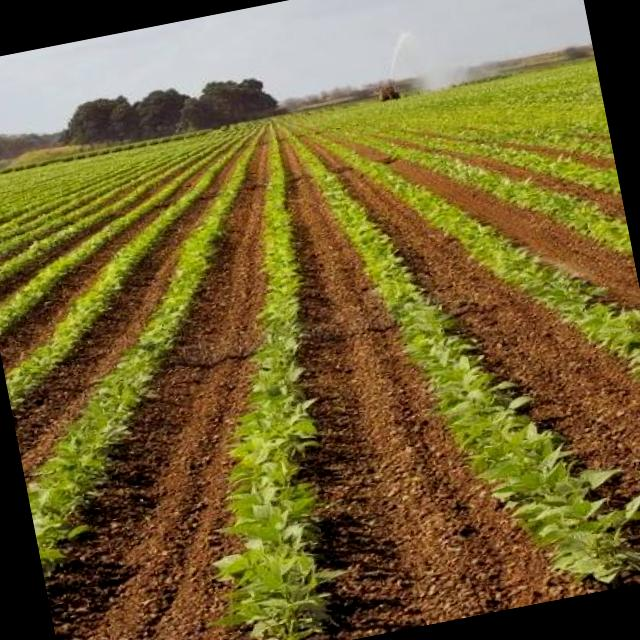suelo_humedo: (70, 70, 620, 625)
